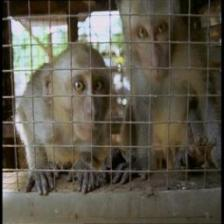monkey: (53, 45, 114, 154), (117, 2, 189, 86)
